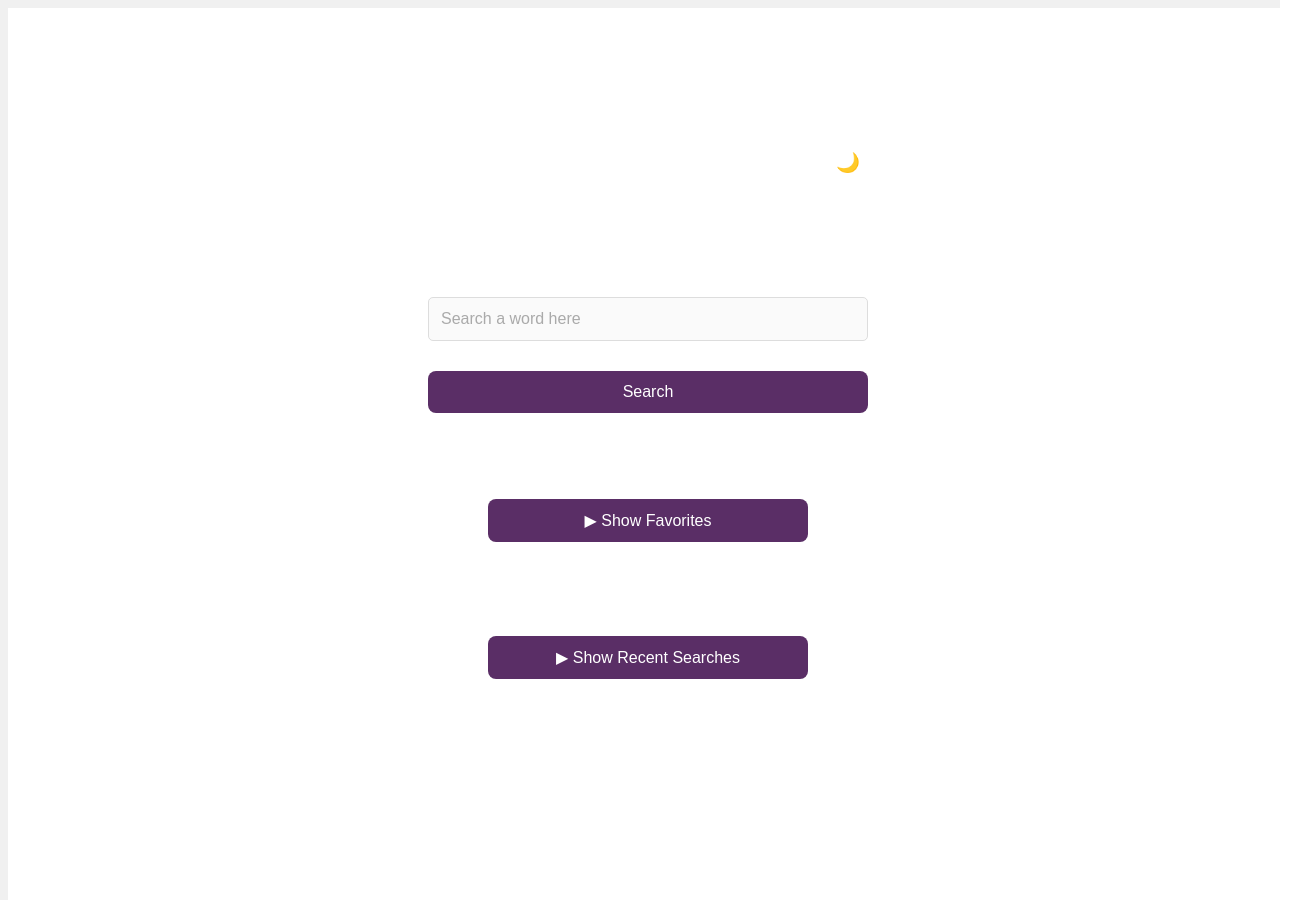
Test: App Component › should display an error message when input is empty and search is clicked
Click the button "Search" at (648, 392), box 428,371 -> 868,413
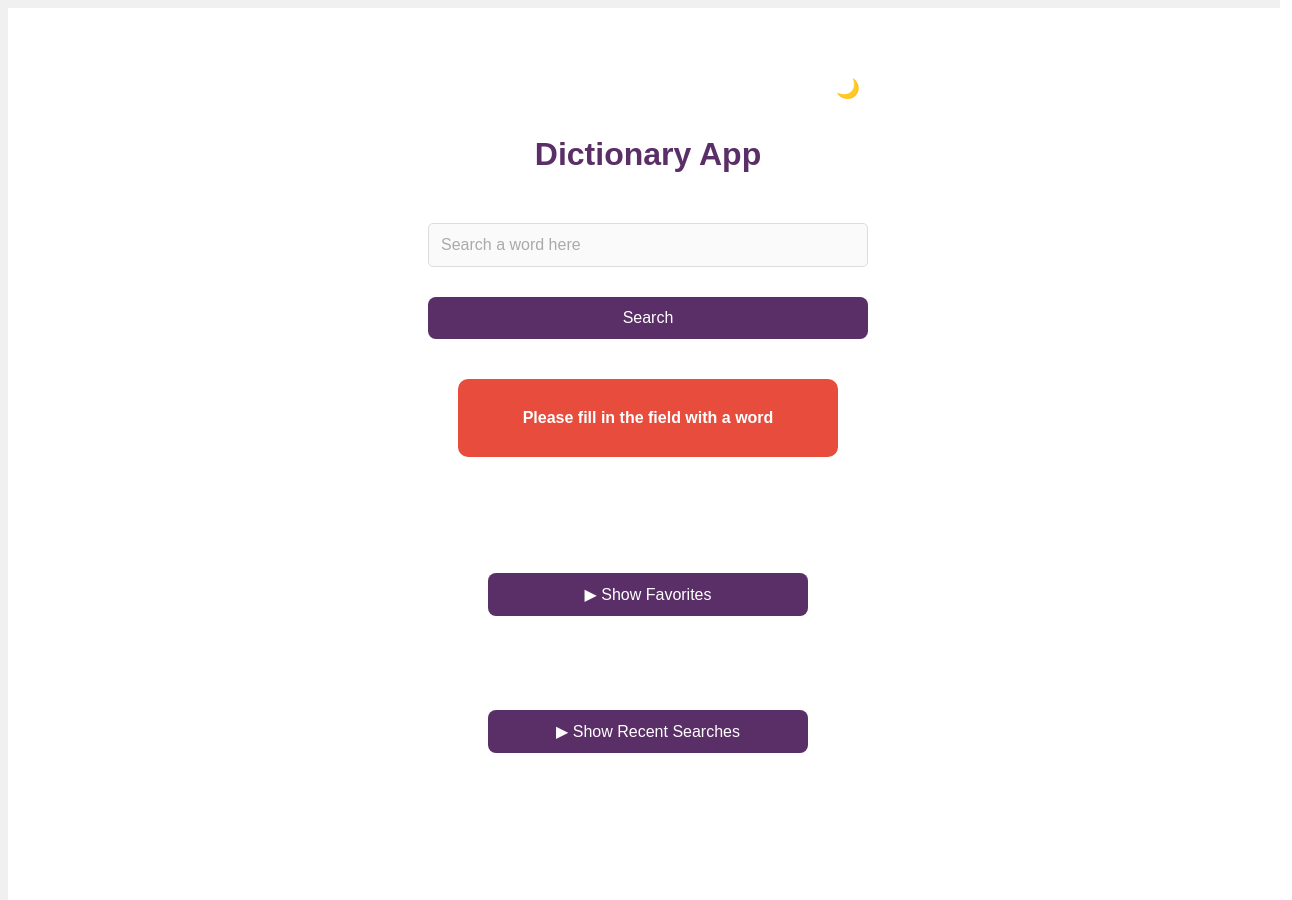
expect the text "Please fill in the field with a word" is shown: met, box 458,379 -> 838,457
